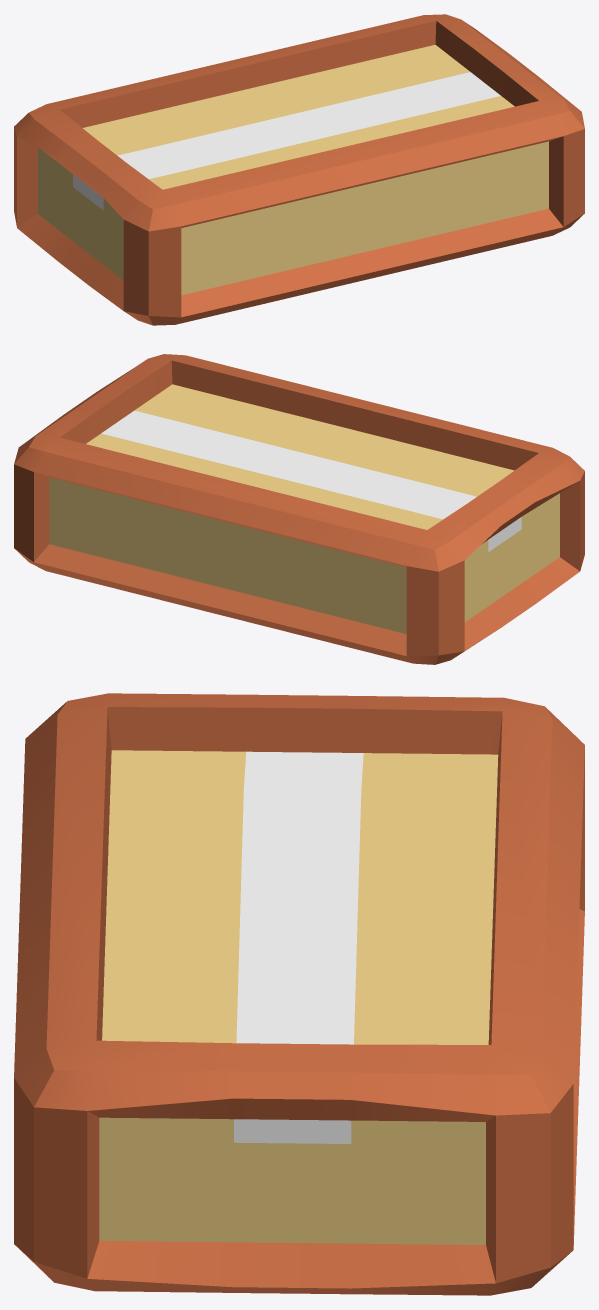
The model's file is Props_Box_Wood_03.fbx.
3 views of the same model, one above another, from view 1: azimuth 30°, elevation 25°; view 2: azimuth 150°, elevation 25°; view 3: azimuth 270°, elevation 25° (orthographic). The views are drawn at different scales.
Visible parts, largest first — view 1: Props_Box_Wood_03; view 2: Props_Box_Wood_03; view 3: Props_Box_Wood_03.
Part boxes in pixels (x1,y1,x2,y2): Props_Box_Wood_03: (14,14,584,325); Props_Box_Wood_03: (14,354,584,664); Props_Box_Wood_03: (14,693,584,1295).
Size of the model in its own units: 105 by 28.3 by 61.8.
